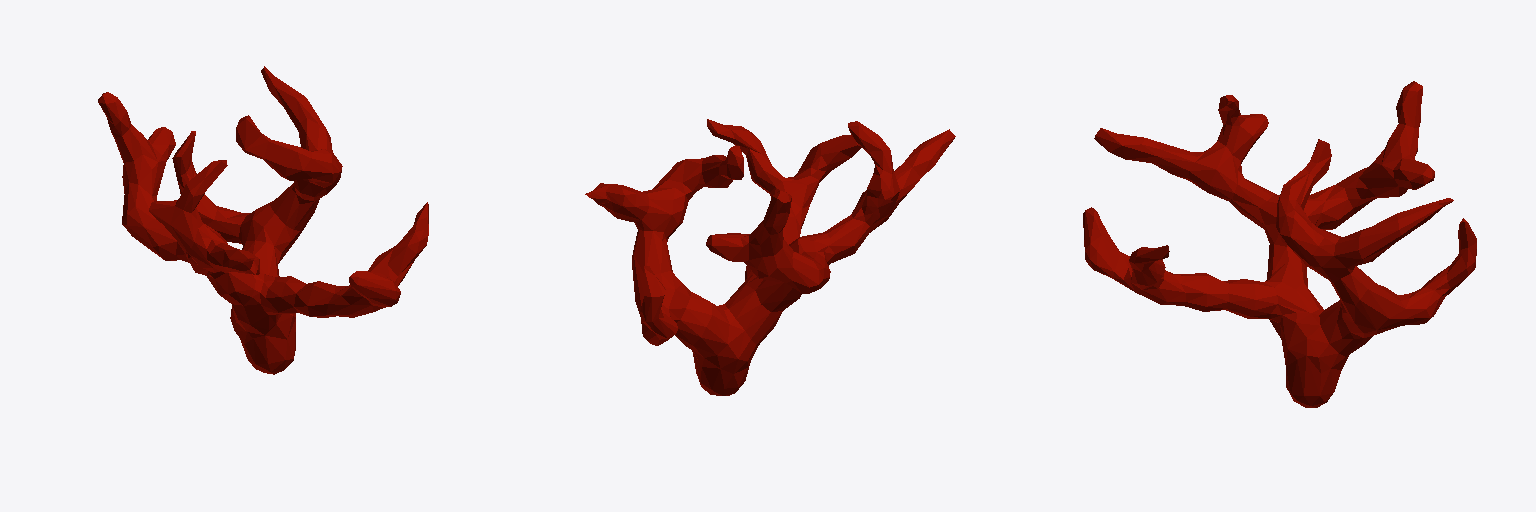
The model's file is Coral1.obj.
3 renders of one model, left to right at view 1: azimuth 30°, elevation 25°; view 2: azimuth 150°, elevation 25°; view 3: azimuth 270°, elevation 25°, orthographic.
Visible parts, largest first — view 1: Coral.001_CoralMesh.002; view 2: Coral.001_CoralMesh.002; view 3: Coral.001_CoralMesh.002.
Boxes of the visible parts, box(x1,y1,x2,y2) form: Coral.001_CoralMesh.002: box(98, 66, 428, 374); Coral.001_CoralMesh.002: box(585, 119, 955, 395); Coral.001_CoralMesh.002: box(1083, 81, 1476, 407).
Bounding box in the file's own units: 0.4608 × 0.5065 × 0.6741.